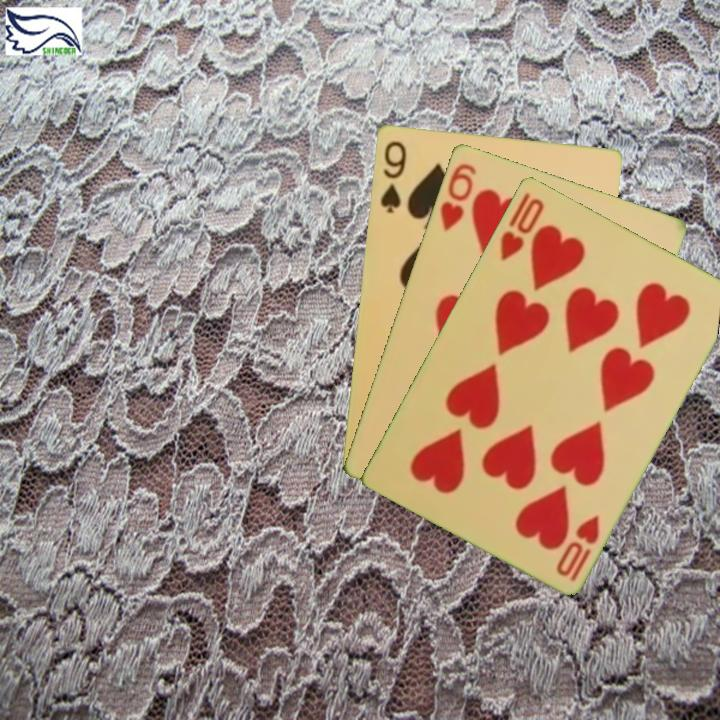10h: (496, 188, 547, 264), (552, 511, 602, 584)
6h: (436, 159, 479, 234)
9s: (376, 137, 409, 216)
